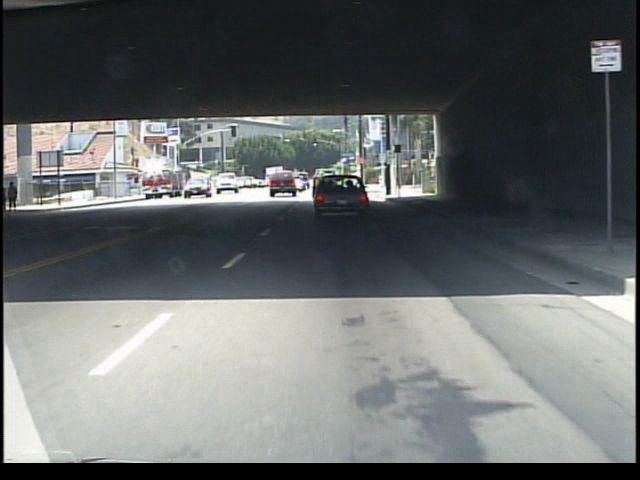person: (9, 182, 22, 213)
